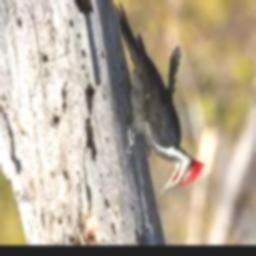Woodpecker: (114, 3, 205, 198)
